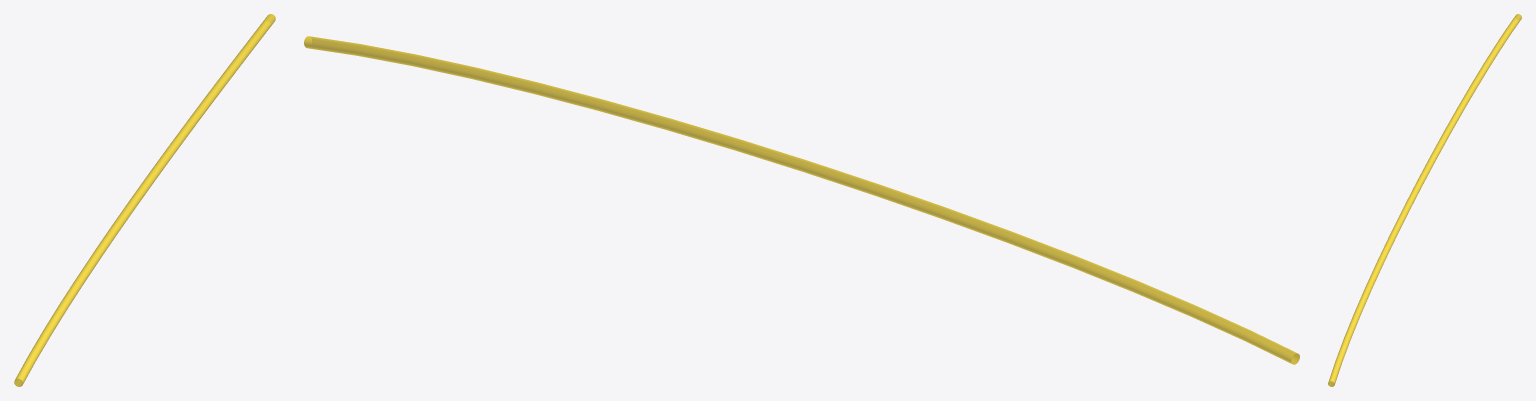
File: Event_75125125_track_114.fbx
3 renders of one model, left to right at view 1: azimuth 90°, elevation 25°; view 2: azimuth 150°, elevation 25°; view 3: azimuth 270°, elevation 25°, orthographic. The views are drawn at different scales.
Visible parts, largest first — view 1: Model; view 2: Model; view 3: Model.
Part boxes in pixels (x1,y1,x2,y2): Model: [14, 14, 275, 386]; Model: [304, 36, 1299, 364]; Model: [1328, 14, 1521, 386].
Size of the model in its own units: 4.36 by 0.3675 by 1.12.
